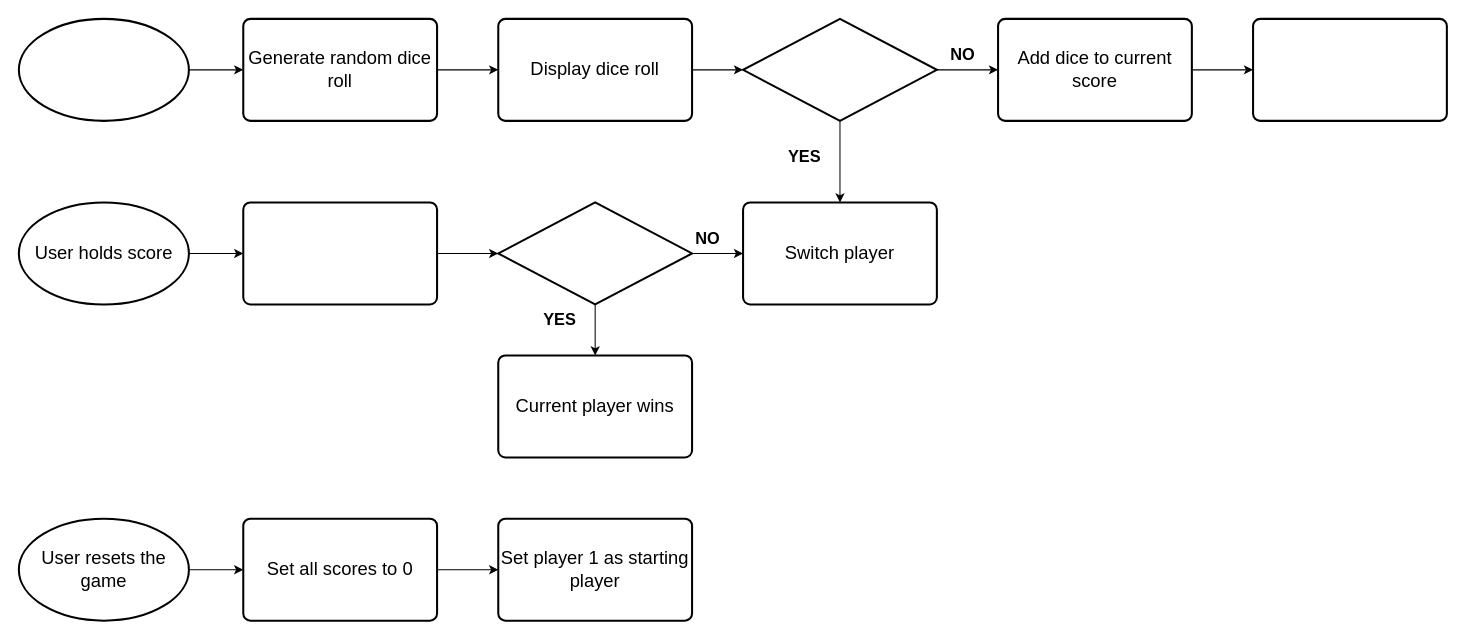
Image size: 1465x639. Some labels were removed from this diagram. The centre of each missing label's shape, as x and y in pixels:
"Add current score to total score" goes at point (340, 253).
"Display new score" goes at point (1349, 69).
"Is it a 1?" goes at point (839, 69).
"Score >= 100?" goes at point (595, 253).
"User rolls the dice" goes at point (103, 69).
